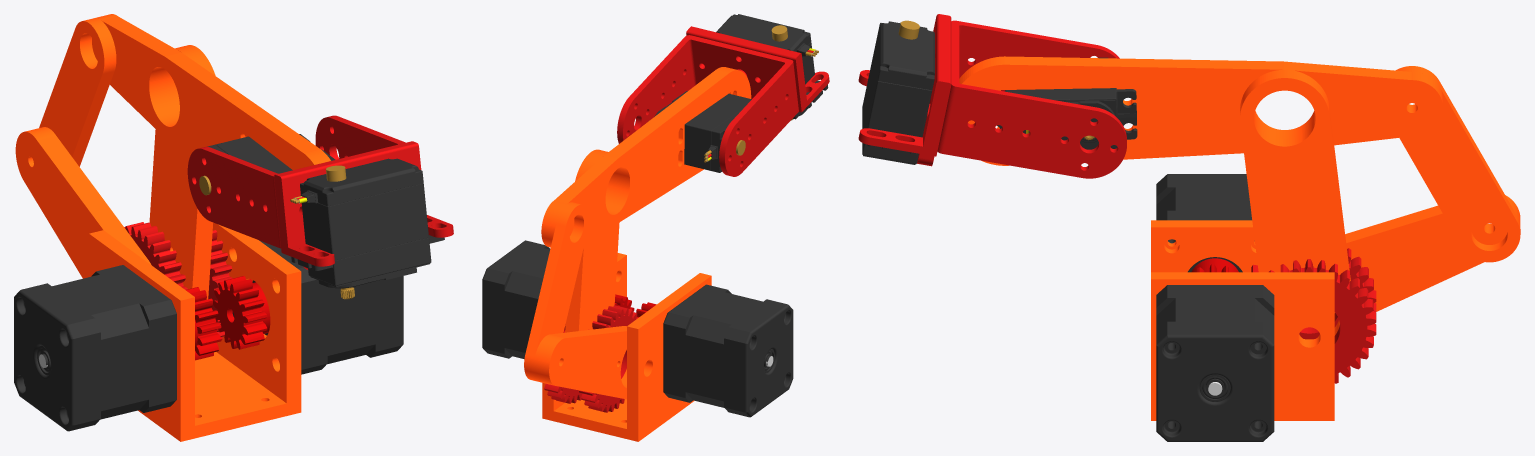
Rendered from Concept2.glb.
3 renders of one model, left to right at view 1: azimuth 30°, elevation 25°; view 2: azimuth 150°, elevation 25°; view 3: azimuth 270°, elevation 25°, orthographic. The views are drawn at different scales.
Visible parts, largest first — view 1: Node5, Node2, Node1, Node4, Node6, Node8; view 2: Node5, Node2, Node1, Node4, Node8, Node6; view 3: Node5, Node1, Node2, Node4.
Part boxes in pixels (x1=…): Node5: x1=15, y1=14, x2=330, y2=441; Node2: x1=14, y1=240, x2=403, y2=431; Node1: x1=124, y1=115, x2=453, y2=339; Node4: x1=207, y1=134, x2=444, y2=288; Node6: x1=186, y1=276, x2=270, y2=360; Node8: x1=199, y1=165, x2=346, y2=195; Node5: x1=524, y1=67, x2=751, y2=441; Node2: x1=482, y1=240, x2=793, y2=417; Node1: x1=544, y1=26, x2=829, y2=412; Node4: x1=654, y1=14, x2=828, y2=172; Node8: x1=736, y1=25, x2=787, y2=155; Node6: x1=614, y1=294, x2=656, y2=317; Node5: x1=959, y1=56, x2=1520, y2=420; Node1: x1=858, y1=14, x2=1376, y2=383; Node2: x1=1156, y1=174, x2=1274, y2=441; Node4: x1=862, y1=21, x2=1137, y2=164.
Bounding box in the file's own units: 138 × 141 × 237.
